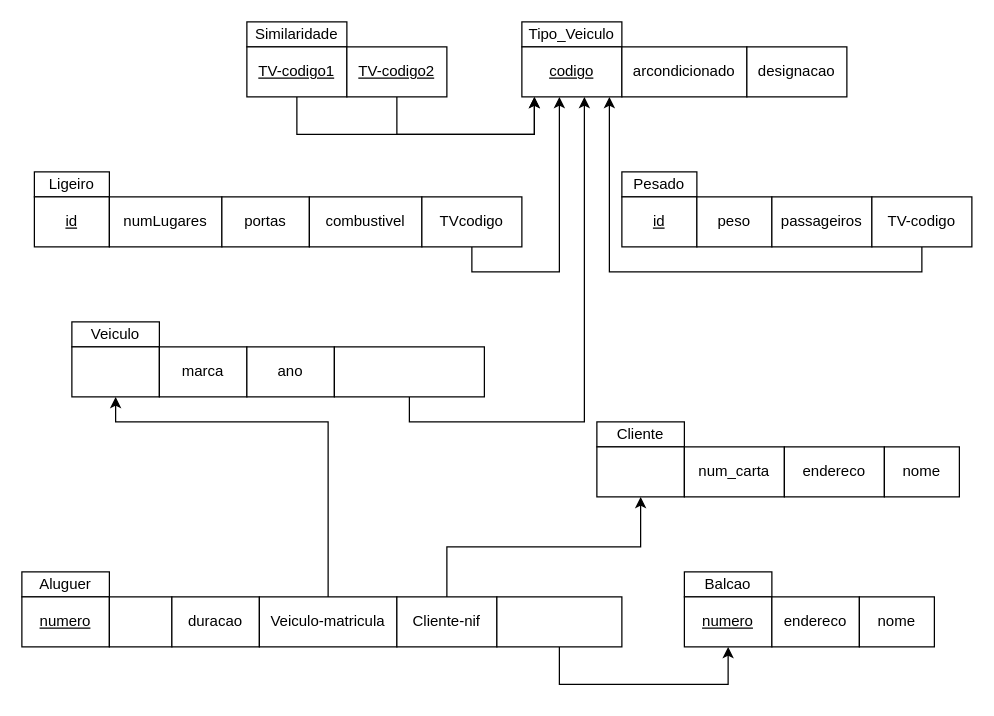
Some shapes in this 994 by 716 pixel diagram are drawn without their labels. Each missing label, with the centre of its shape:
"Balcao-numero" belongs at point (559, 621).
"data" belongs at point (140, 621).
"matricula" belongs at point (115, 371).
"nif" belongs at point (640, 471).
"Tipo_Veículo-codigo" belongs at point (408, 371).
